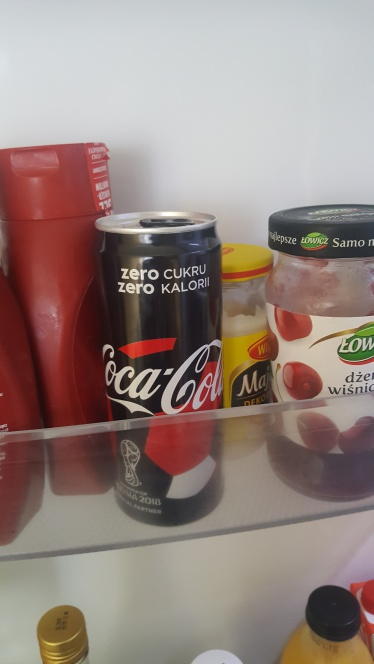colazero: (83, 204, 240, 526)
